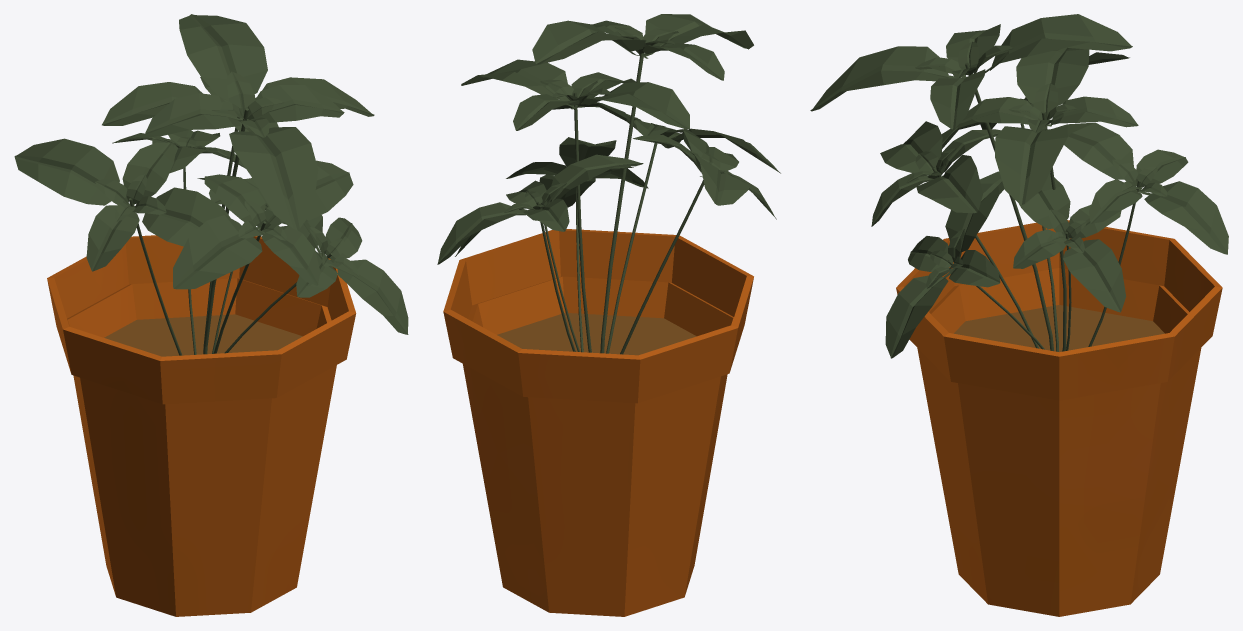
The model's file is mod_BG_Basilic_01.fbx.
3 views of the same model, side by side, from view 1: azimuth 30°, elevation 25°; view 2: azimuth 150°, elevation 25°; view 3: azimuth 270°, elevation 25° (orthographic). The views are drawn at different scales.
Parts seen in each view (by area): view 1: Pot, Basilic; view 2: Pot, Basilic; view 3: Pot, Basilic.
Part boxes in pixels (<box>): Pot: <box>47,235,356,616</box>; Basilic: <box>14,14,408,355</box>; Pot: <box>443,229,753,616</box>; Basilic: <box>437,14,780,354</box>; Pot: <box>896,220,1222,616</box>; Basilic: <box>810,14,1228,358</box>.
Size of the model in its own units: 5.19 by 8.59 by 5.88.
